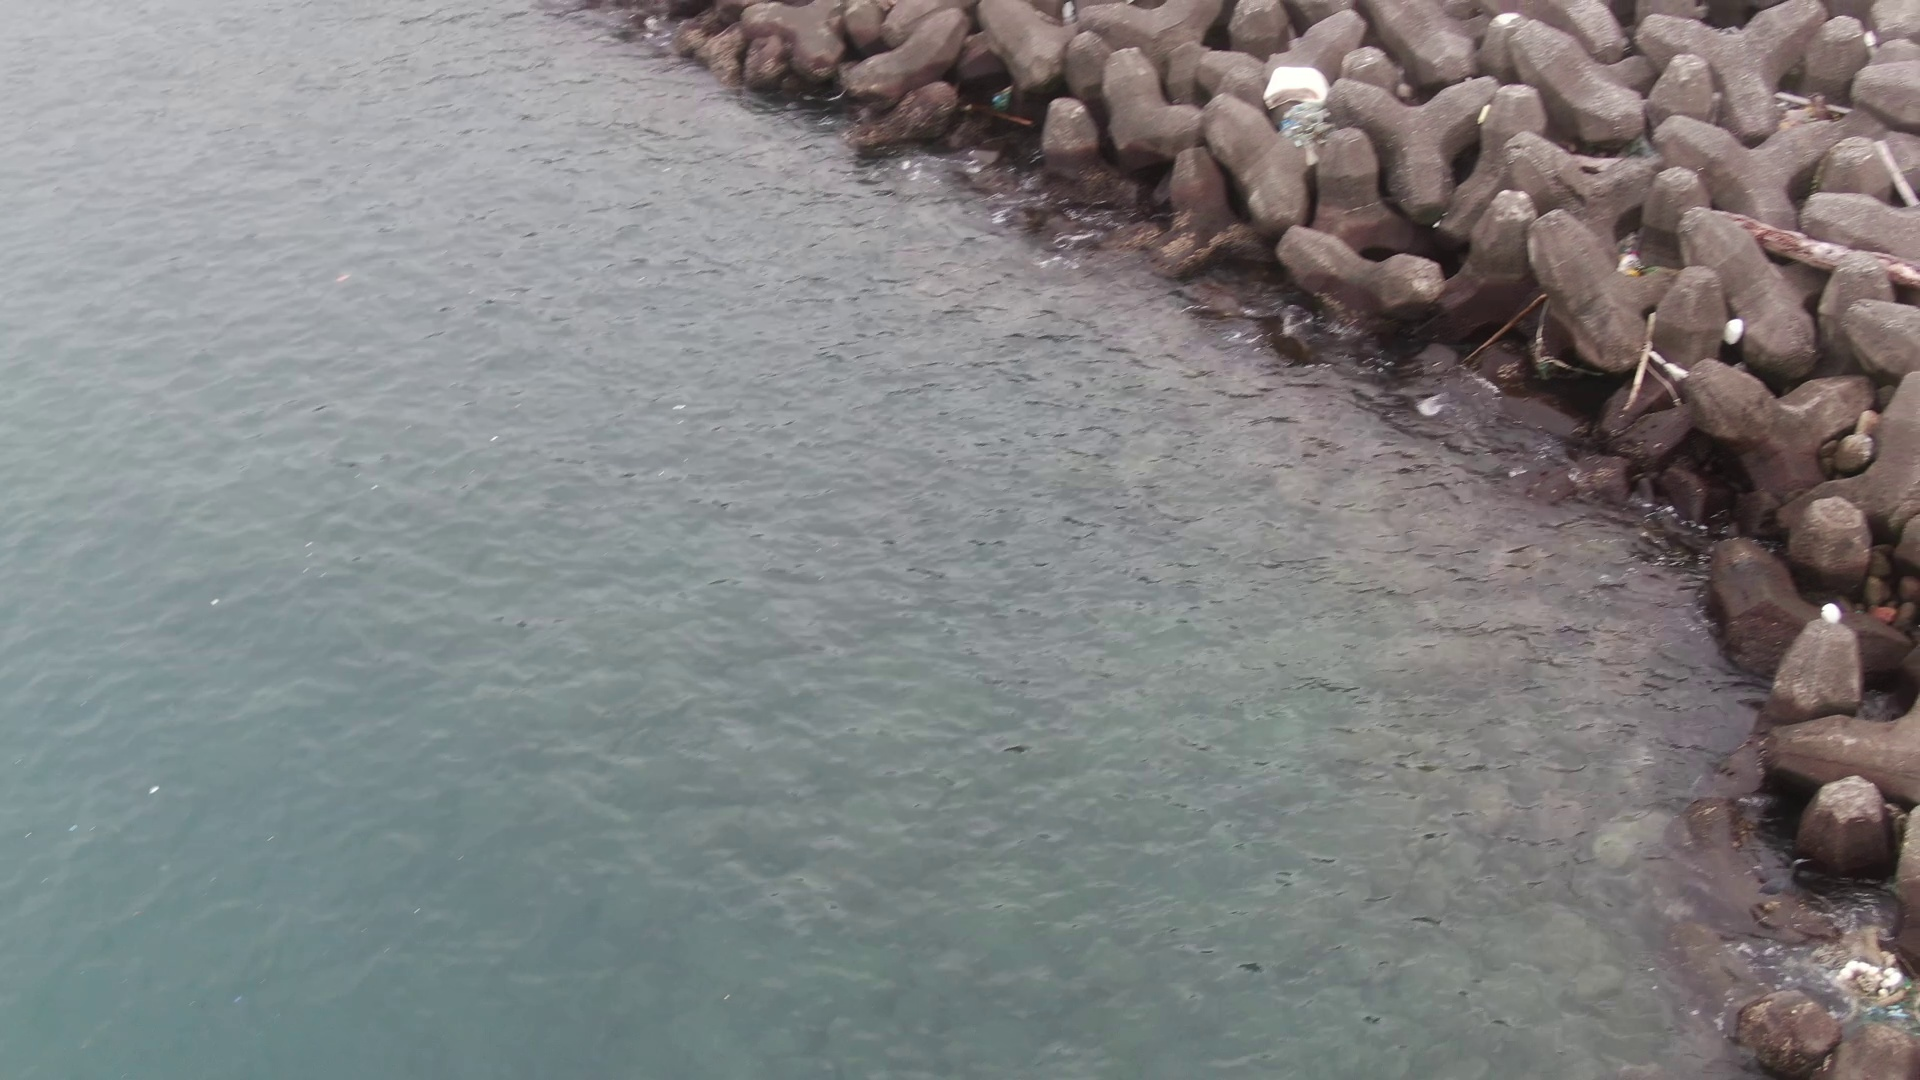garbage: (1262, 58, 1352, 167), (1611, 237, 1648, 281), (1718, 309, 1749, 347), (1818, 601, 1850, 626), (989, 74, 1015, 102)
